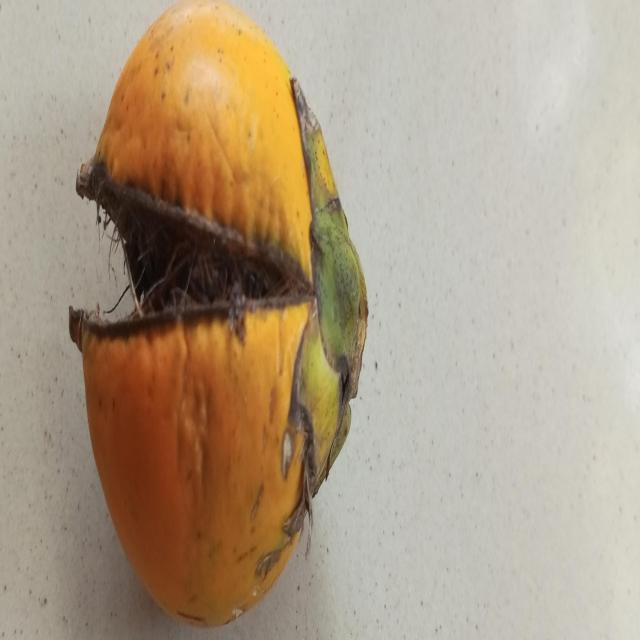damaged: (69, 0, 368, 625)
